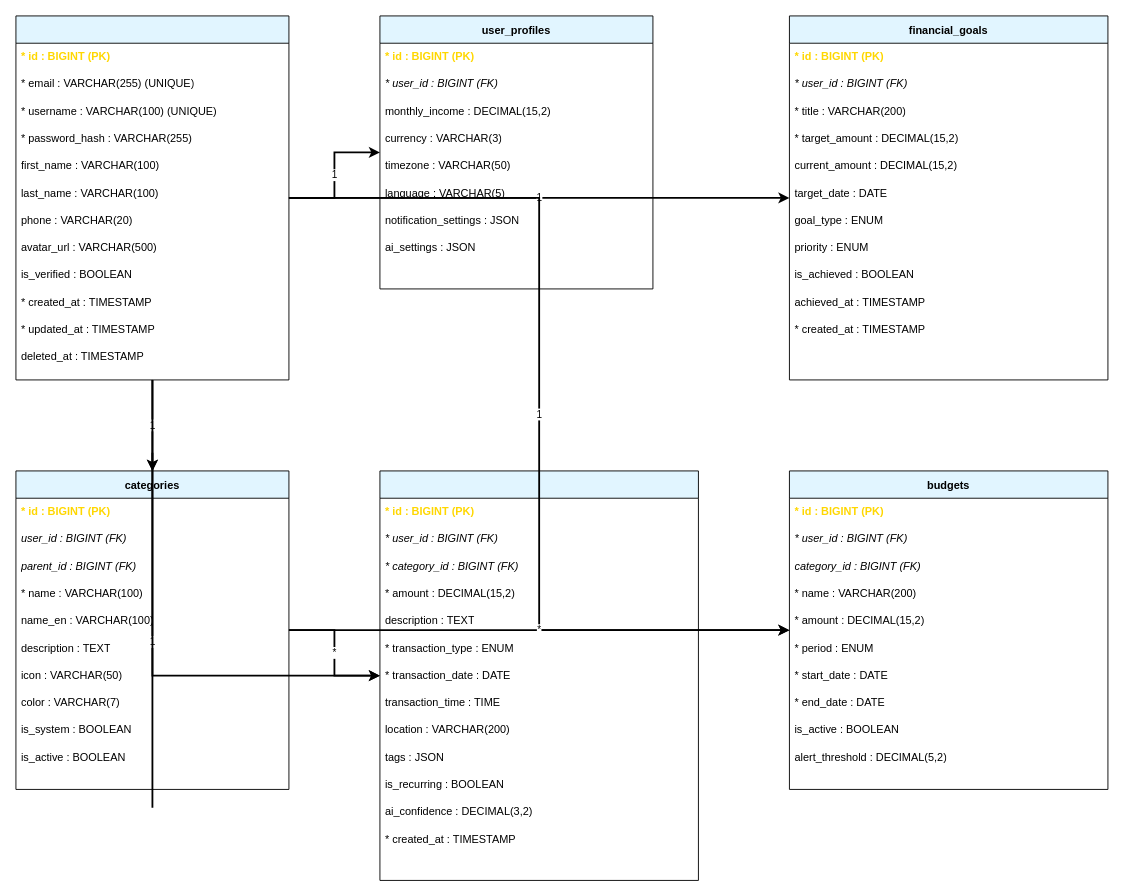
Some shapes in this 1124 by 896 pixel diagram are drawn without their labels. The box of each missing label's shape, as (x1, y1, x2, y2) in pixels:
transactions: (379, 470, 698, 880)
users: (15, 15, 289, 380)
